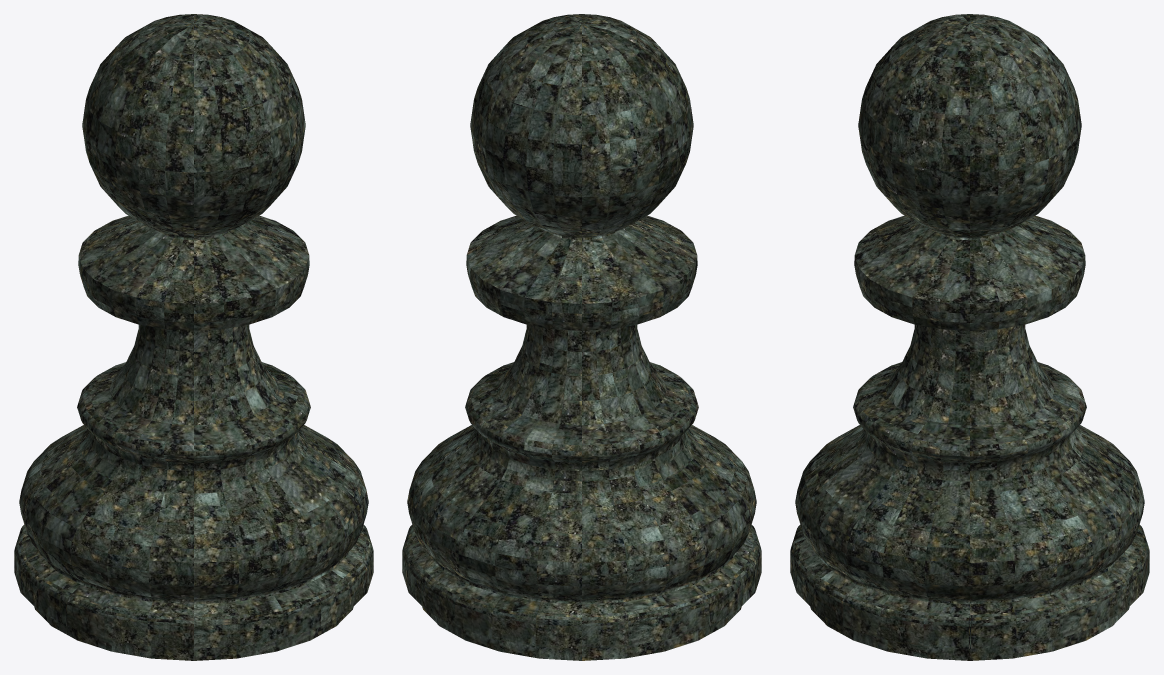
Rendered from black_pawn.fbx.
The picture shows the model from 3 angles, left to right: view 1: azimuth 30°, elevation 25°; view 2: azimuth 150°, elevation 25°; view 3: azimuth 270°, elevation 25°; orthographic projection.
Visible parts, largest first — view 1: Composant_1_1; view 2: Composant_1_1; view 3: Composant_1_1.
Boxes of the visible parts, x1=… form: Composant_1_1: x1=14, y1=14, x2=373, y2=660; Composant_1_1: x1=402, y1=14, x2=761, y2=660; Composant_1_1: x1=790, y1=14, x2=1149, y2=660.
Size of the model in its own units: 11.31 by 19.72 by 11.31.
Materials: 1 (1 with a texture image).
